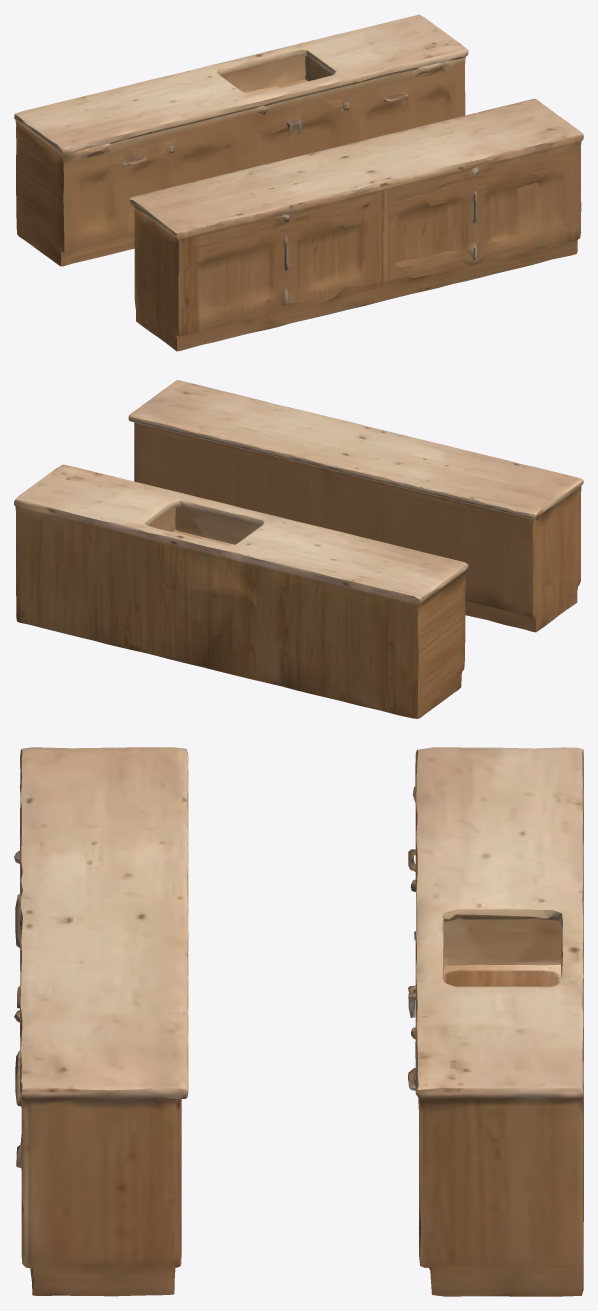
Rendered from kitchen-galley.glb.
The picture shows the model from 3 angles, top to bottom: view 1: azimuth 30°, elevation 25°; view 2: azimuth 150°, elevation 25°; view 3: azimuth 270°, elevation 25°; orthographic projection. The views are drawn at different scales.
Visible parts, largest first — view 1: geometry_0; view 2: geometry_0; view 3: geometry_0.
Part boxes in pixels (left/top/right/bottom): geometry_0: left=14, top=14, right=583, bottom=351; geometry_0: left=14, top=380, right=583, bottom=718; geometry_0: left=14, top=747, right=583, bottom=1296.
Size of the model in its own units: 1.8 by 0.519 by 1.27.
1 material, 1 textured.
